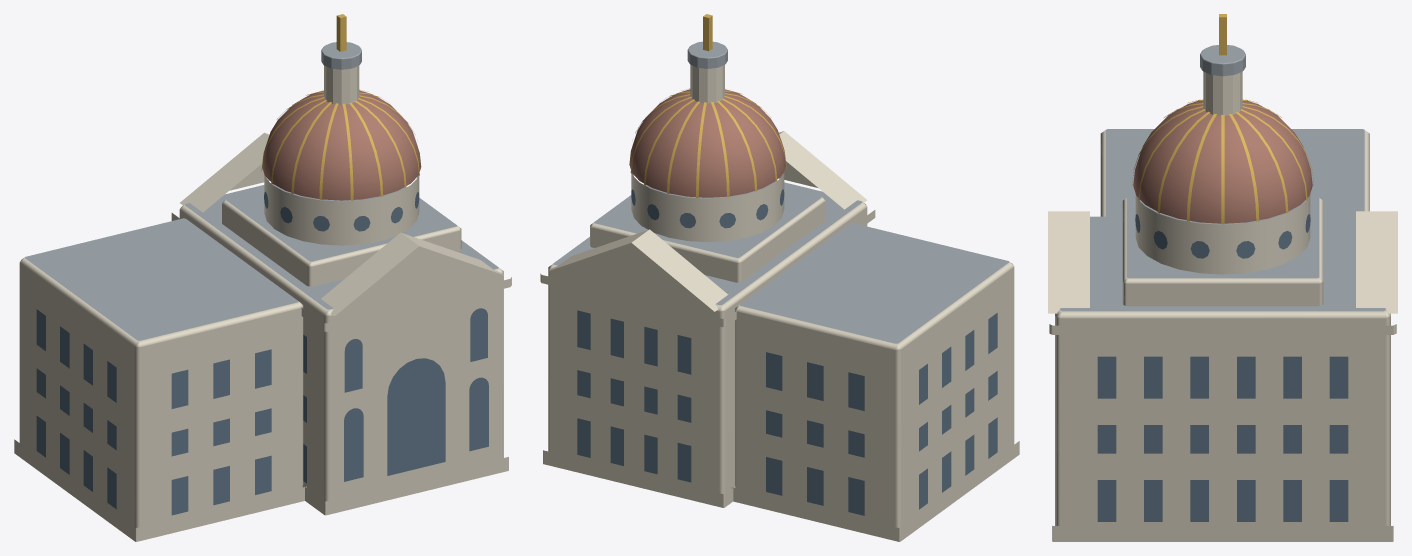
Rendered from nyc-williamsburgh-savings-bank-broadway.glb.
The picture shows the model from 3 angles, left to right: view 1: azimuth 30°, elevation 25°; view 2: azimuth 150°, elevation 25°; view 3: azimuth 270°, elevation 25°; orthographic projection. The views are drawn at different scales.
Visible parts, largest first — view 1: Williamsburgh Savings Bank; view 2: Williamsburgh Savings Bank; view 3: Williamsburgh Savings Bank.
Boxes of the visible parts, x1,y1,x2,y2 form: Williamsburgh Savings Bank: (14, 14, 511, 541); Williamsburgh Savings Bank: (540, 14, 1019, 541); Williamsburgh Savings Bank: (1048, 14, 1397, 541).
Bounding box in the file's own units: 39.75 × 45 × 30.
